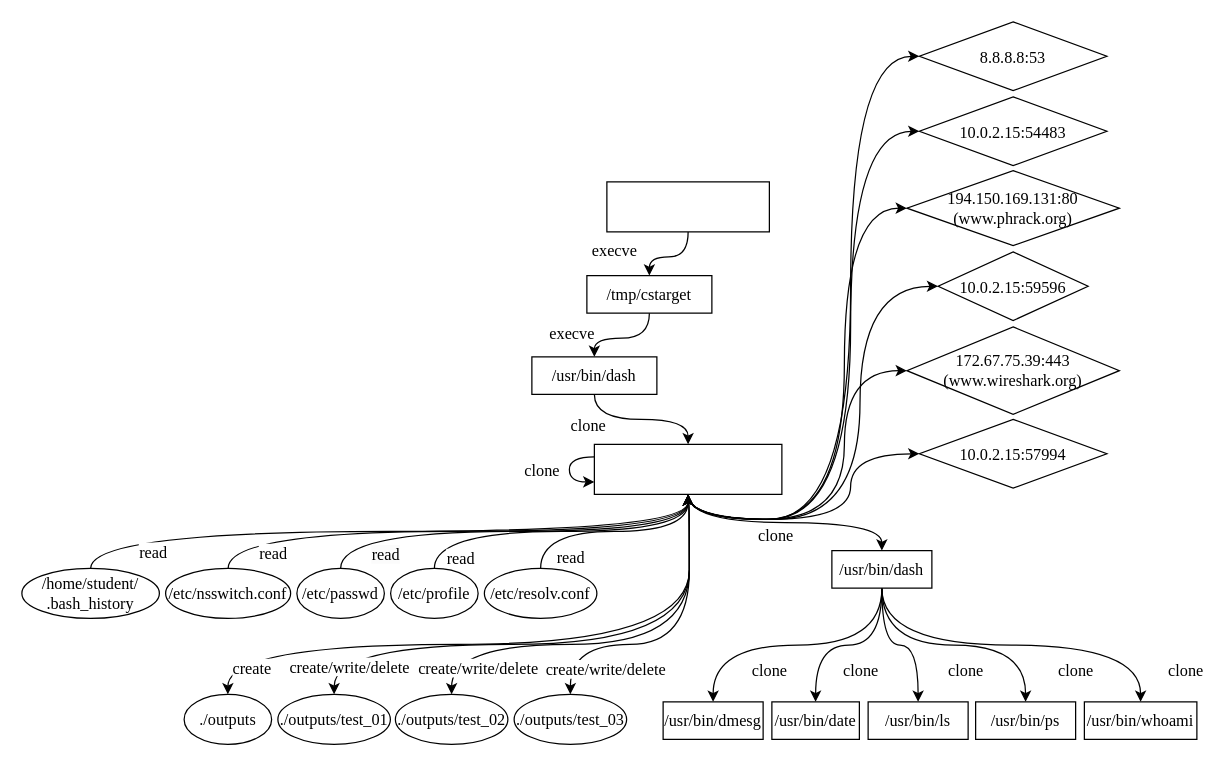
This 1225x766 diagram has some shape labels left out. Each missing label, with the centre of its shape:
/home/student/A2 /PartA/exploits/exploit: the point at 687,206
/home/student/A2 /PartB/ malicious_prog: the point at 687,468
